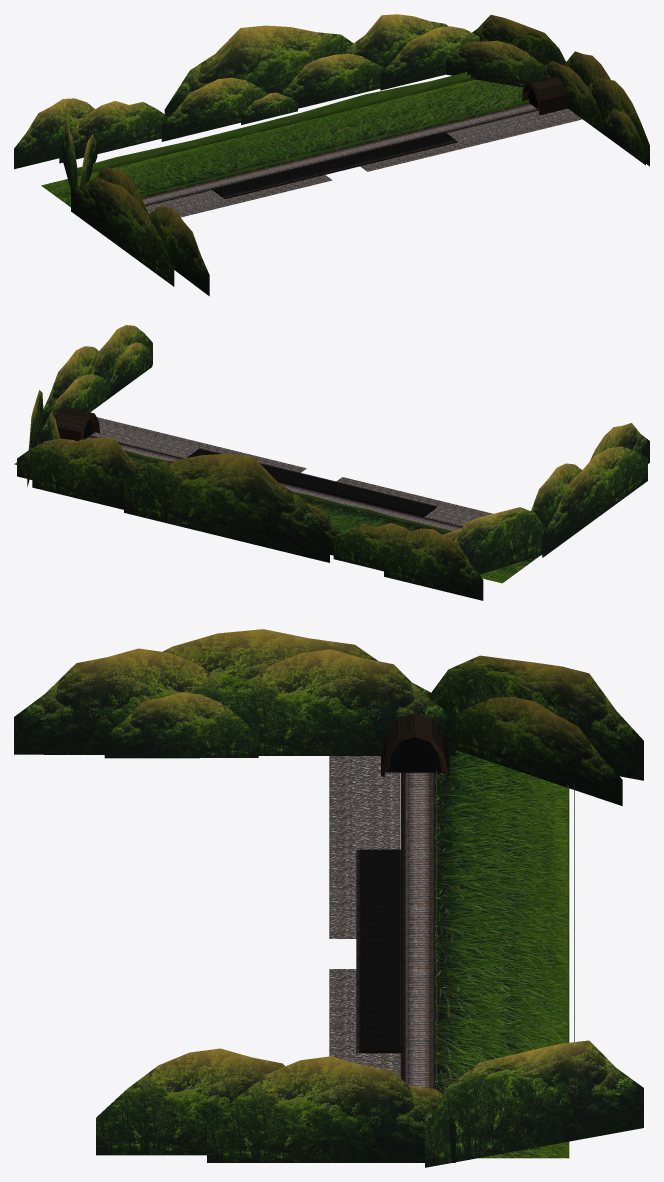
The model's file is keshiki.obj.
3 views of the same model, one above another, from view 1: azimuth 30°, elevation 25°; view 2: azimuth 150°, elevation 25°; view 3: azimuth 270°, elevation 25° (orthographic). The views are drawn at different scales.
Size of the model in its own units: 90.22 by 15.16 by 56.69.
1 material, 1 textured.
